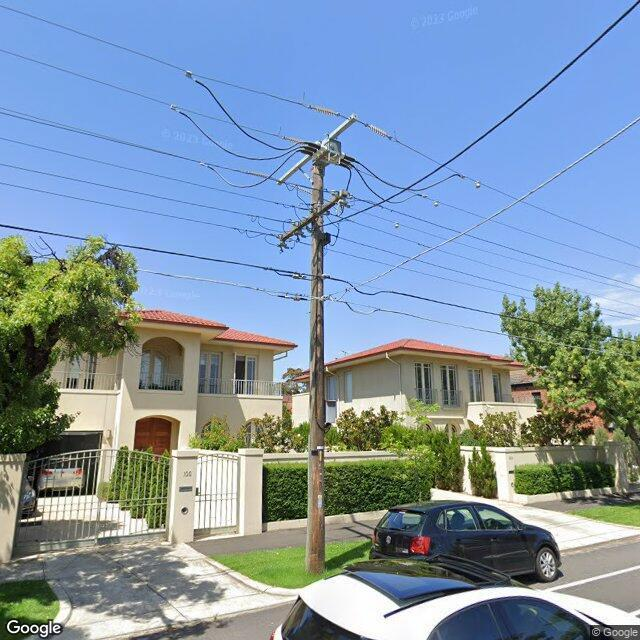HV-switch: (299, 137, 356, 170)
HV-transmission: (243, 103, 393, 198)
crossarm: (231, 188, 357, 254), (278, 113, 357, 185)
timber-pole: (305, 161, 326, 576)
